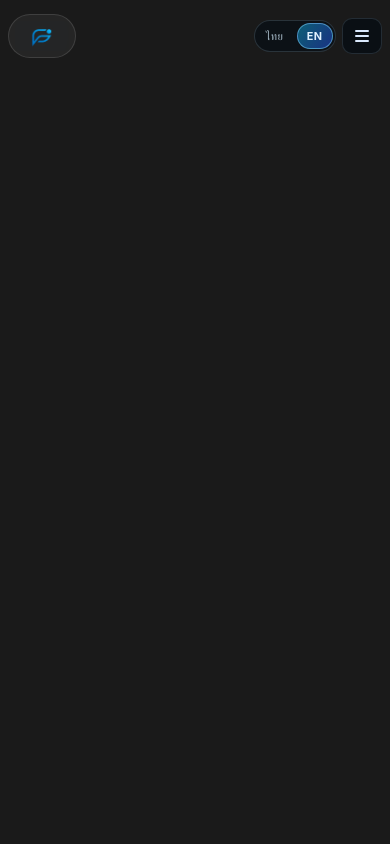
Scenario: Topbar accessibility › opens the mobile navigation with dialog semantics
This screenshot has width=390, height=844.
What coordinates should you click on to do the following:
click the button named "open navigation menu"
I would click on:
 (362, 36)
Its box is x1=342 y1=18 x2=382 y2=54.
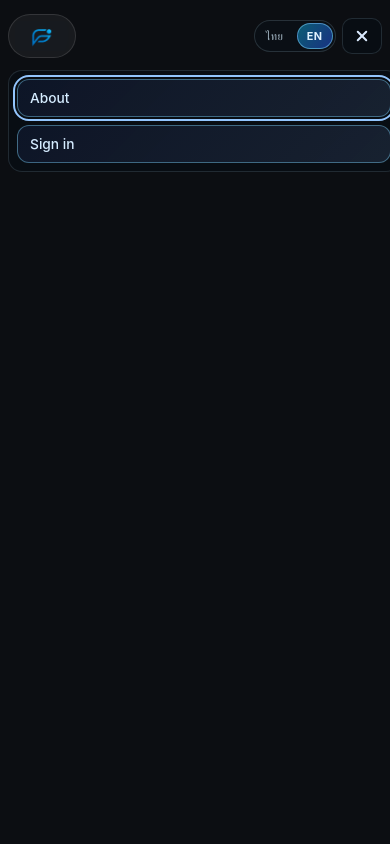
Expected: the button named "open navigation menu" is expanded, x1=342 y1=18 x2=382 y2=54
